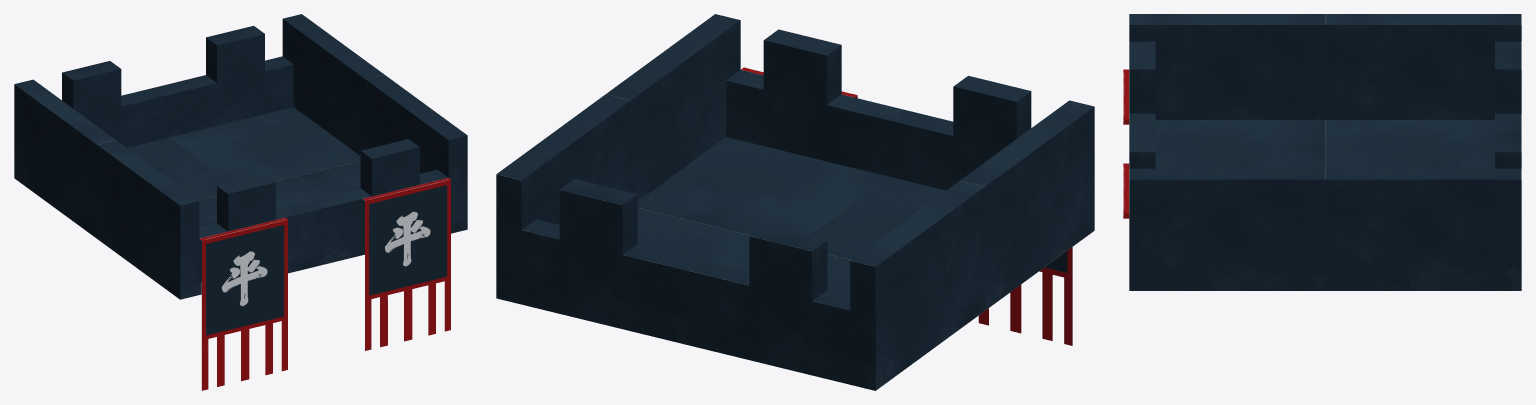
The model's file is gate variant 2.fbx.
3 renders of one model, left to right at view 1: azimuth 30°, elevation 25°; view 2: azimuth 150°, elevation 25°; view 3: azimuth 270°, elevation 25°, orthographic. The views are drawn at different scales.
Parts seen in each view (by area): view 1: Plane024; view 2: Plane024; view 3: Plane024.
Boxes of the visible parts, x1=… form: Plane024: x1=14, y1=14, x2=467, y2=390; Plane024: x1=496, y1=14, x2=1094, y2=390; Plane024: x1=1123, y1=14, x2=1521, y2=290.
Size of the model in its own units: 78.74 by 49.21 by 79.92.
